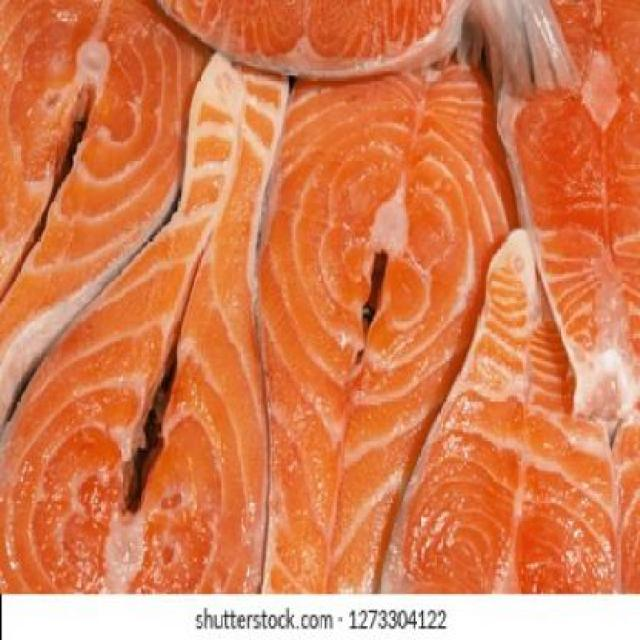salmon: (3, 51, 287, 594), (243, 52, 515, 603), (2, 2, 205, 436), (394, 229, 625, 604), (478, 62, 640, 424), (163, 2, 476, 93)
